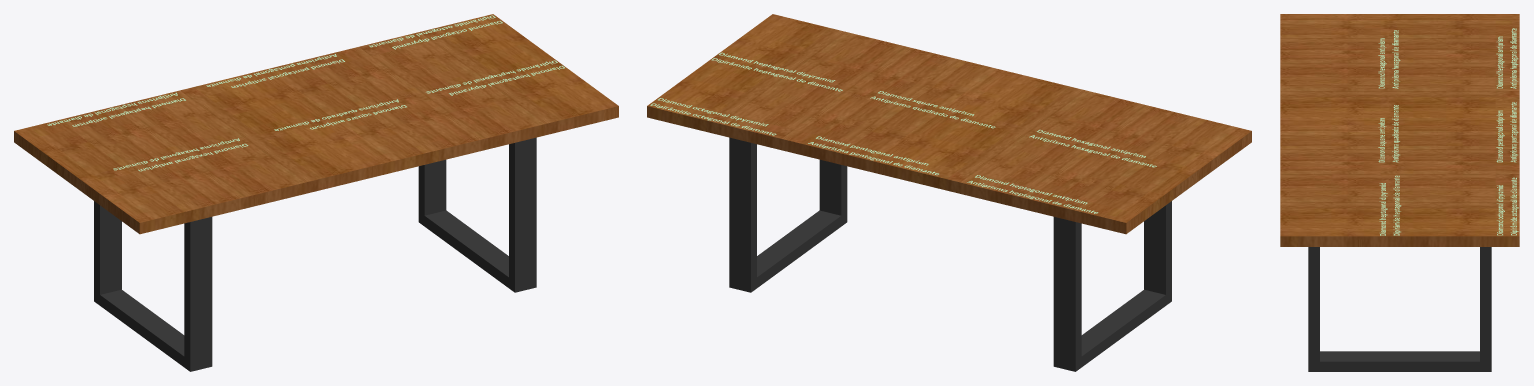
Rendered from diamonds2.glb.
3 renders of one model, left to right at view 1: azimuth 30°, elevation 25°; view 2: azimuth 150°, elevation 25°; view 3: azimuth 270°, elevation 25°, orthographic. The views are drawn at different scales.
Visible parts, largest first — view 1: object 1, Composant#1 (×2), Diamond heptagon, Diamond octagona, Diamond pentagon, Diamond heptagon#1, Diamond hexagona, Diamond square a; view 2: object 1, Composant#1 (×2), Diamond heptagon, Diamond pentagon, Diamond heptagon#1, Diamond hexagona, Diamond octagona, Diamond square a; view 3: object 1, Composant#1, Diamond heptagon, Diamond heptagon#1, Diamond pentagon, Diamond hexagona, Diamond octagona, Diamond square a.
Part boxes in pixels (x1=…): object 1: x1=14, y1=14, x2=618, y2=234; Composant#1 (×2): x1=94, y1=137, x2=536, y2=371; Diamond heptagon: x1=426, y1=60, x2=564, y2=95; Diamond octagona: x1=369, y1=15, x2=502, y2=49; Diamond pentagon: x1=206, y1=54, x2=344, y2=87; Diamond heptagon#1: x1=47, y1=92, x2=185, y2=126; Diamond hexagona: x1=113, y1=138, x2=248, y2=171; Diamond square a: x1=274, y1=99, x2=406, y2=130; object 1: x1=647, y1=14, x2=1251, y2=234; Composant#1 (×2): x1=729, y1=137, x2=1171, y2=371; Diamond heptagon: x1=711, y1=52, x2=842, y2=91; Diamond pentagon: x1=808, y1=136, x2=938, y2=175; Diamond heptagon#1: x1=967, y1=175, x2=1098, y2=213; Diamond hexagona: x1=1029, y1=129, x2=1156, y2=167; Diamond octagona: x1=650, y1=98, x2=776, y2=135; Diamond square a: x1=870, y1=91, x2=995, y2=128; object 1: x1=1280, y1=14, x2=1519, y2=246; Composant#1: x1=1308, y1=247, x2=1491, y2=371; Diamond heptagon: x1=1379, y1=175, x2=1401, y2=235; Diamond heptagon#1: x1=1496, y1=28, x2=1518, y2=88; Diamond pentagon: x1=1496, y1=102, x2=1518, y2=162; Diamond hexagona: x1=1378, y1=30, x2=1400, y2=88; Diamond octagona: x1=1497, y1=177, x2=1518, y2=235; Diamond square a: x1=1378, y1=105, x2=1399, y2=162.
Bounding box in the file's own units: 2.2 × 0.771 × 1.
Materials: 3 (1 with a texture image).
